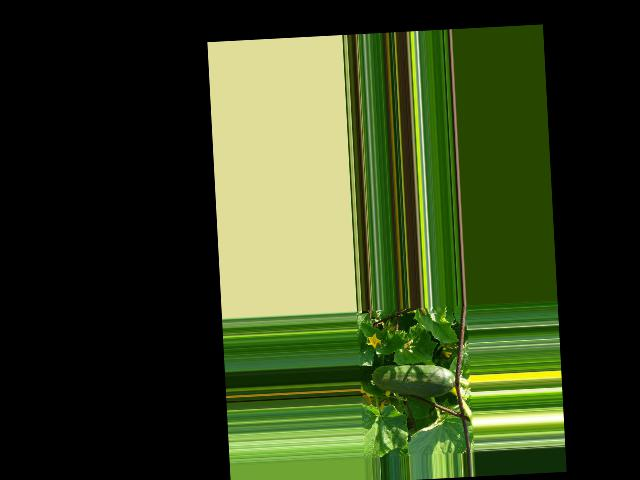cucumber: (371, 362, 455, 401)
